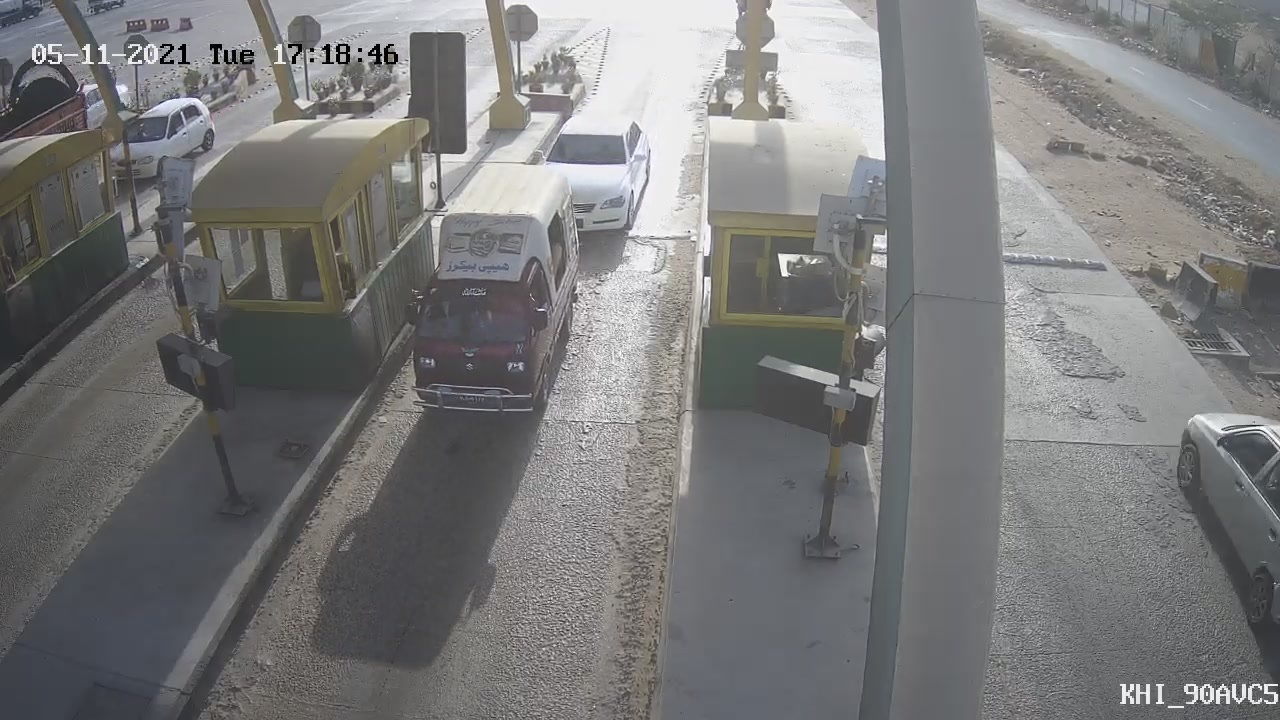F1: (385, 149, 601, 447)
